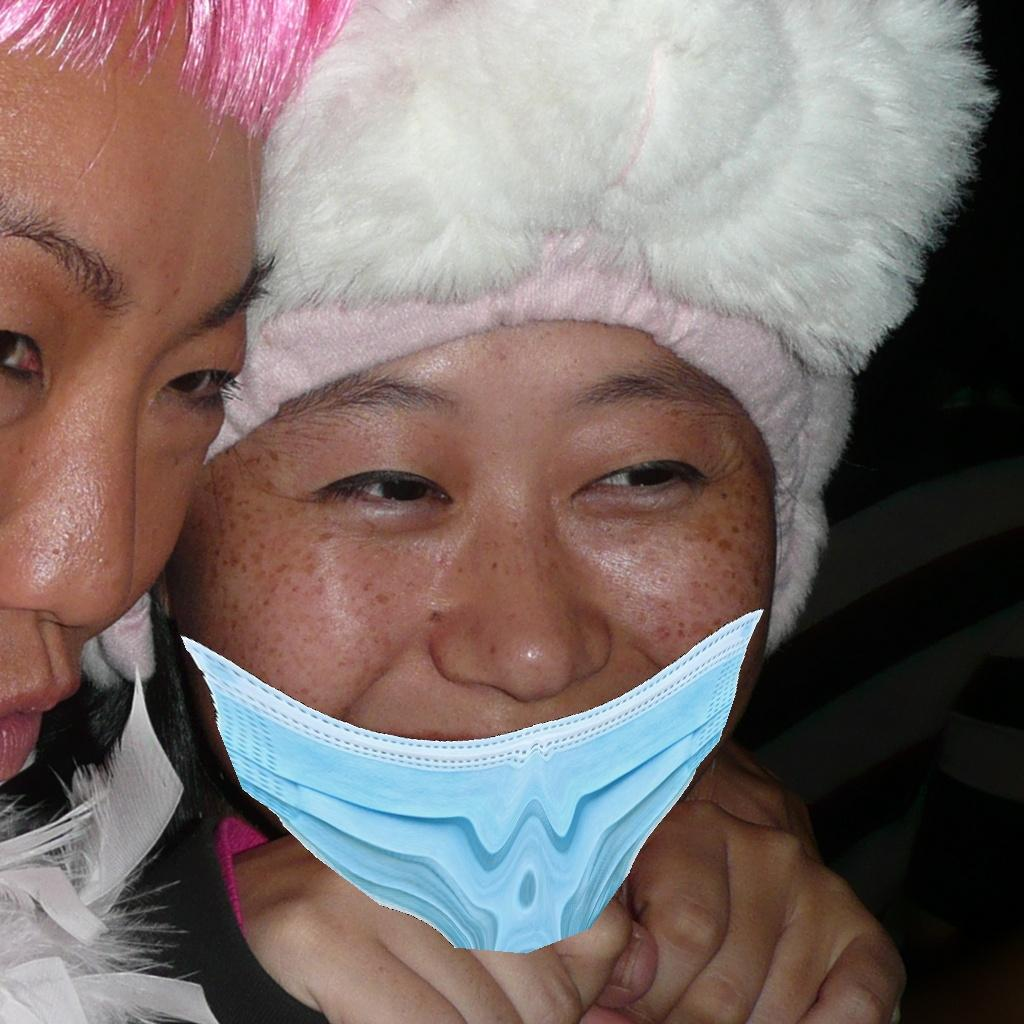Máscara Incorreta: (245, 365, 775, 923)
Sem Máscara: (0, 232, 235, 770)
